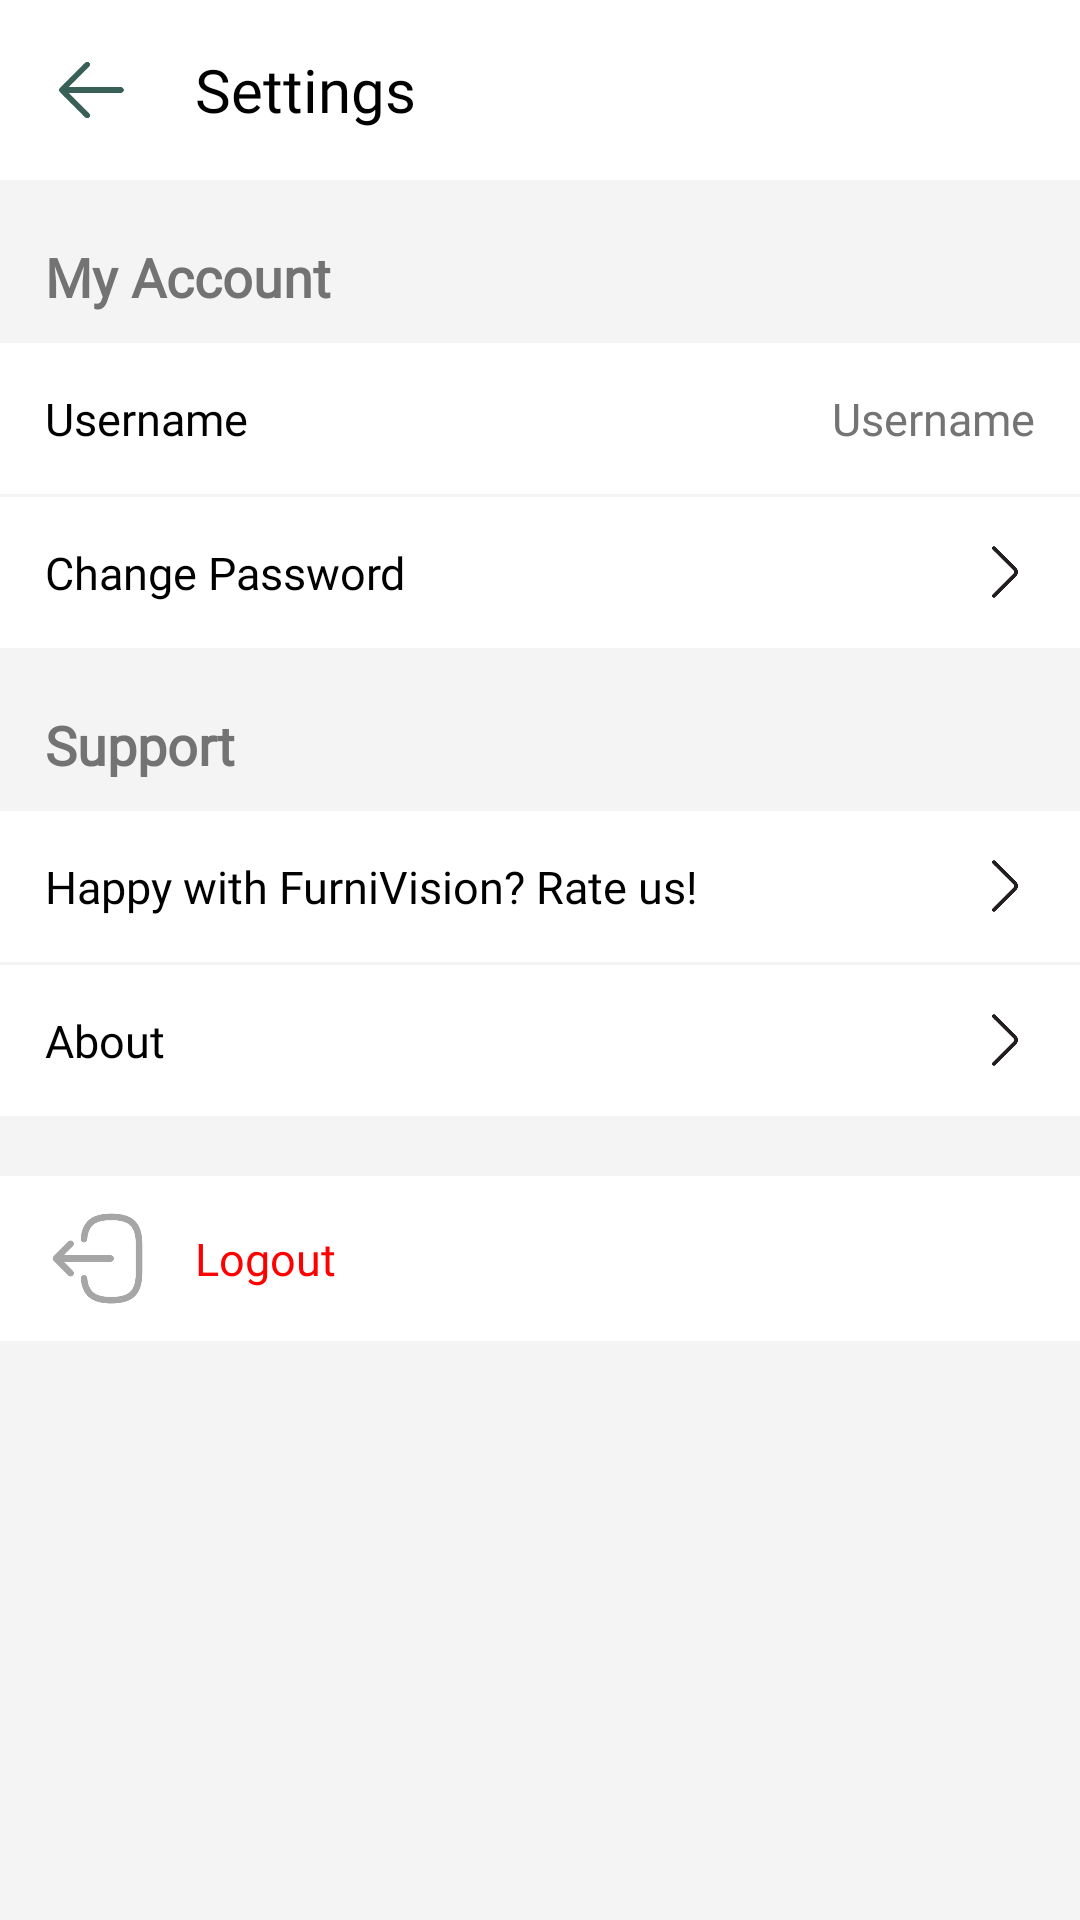

Screen size 1080w x 1920h. Icon name, then its center in pixels as (x,y):
right next: (1005,572), (1005,886), (1005,1040)
